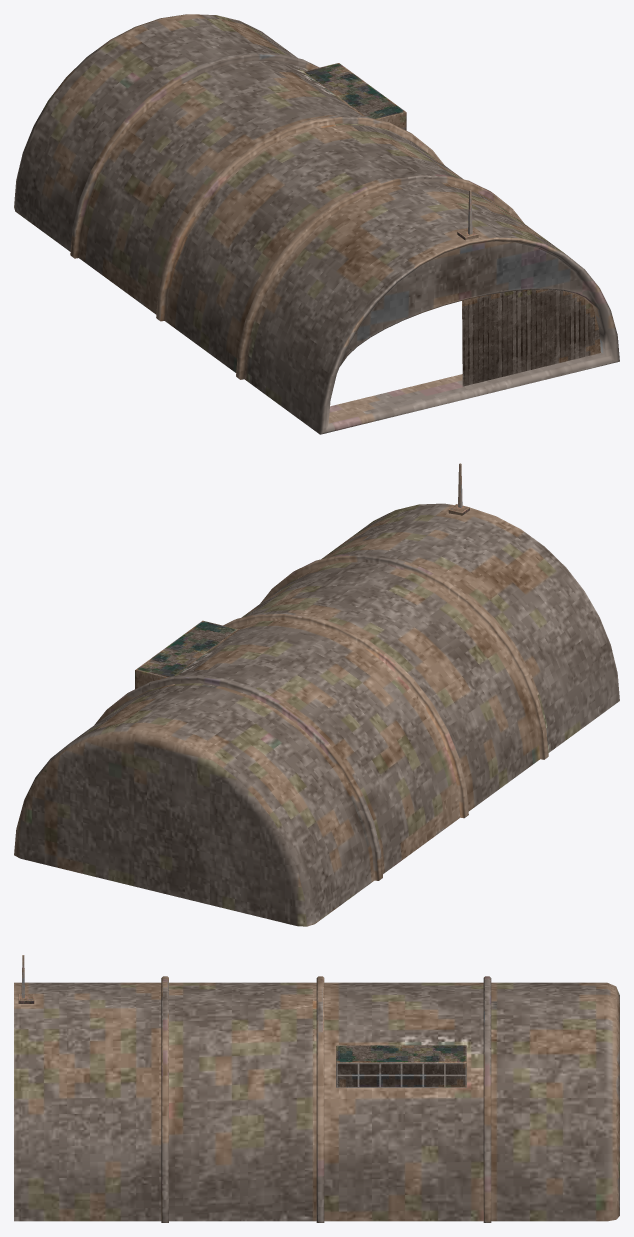
Rendered from hangar.glb.
The picture shows the model from 3 angles, top to bottom: view 1: azimuth 30°, elevation 25°; view 2: azimuth 150°, elevation 25°; view 3: azimuth 270°, elevation 25°; orthographic projection. The views are drawn at different scales.
Parts seen in each view (by area): view 1: Object_3, Doors_L, Object_2; view 2: Object_3, Object_2; view 3: Object_3, Object_2.
Boxes of the visible parts, x1=… form: Object_3: x1=14, y1=14, x2=619, y2=434; Doors_L: x1=462, y1=289, x2=600, y2=386; Object_2: x1=303, y1=63, x2=478, y2=240; Object_3: x1=14, y1=503, x2=619, y2=926; Object_2: x1=135, y1=463, x2=469, y2=688; Object_3: x1=14, y1=976, x2=619, y2=1222; Object_2: x1=18, y1=955, x2=466, y2=1087.
Size of the model in its own units: 25.58 by 15.98 by 44.48.
Materials: 2 (2 with a texture image).
